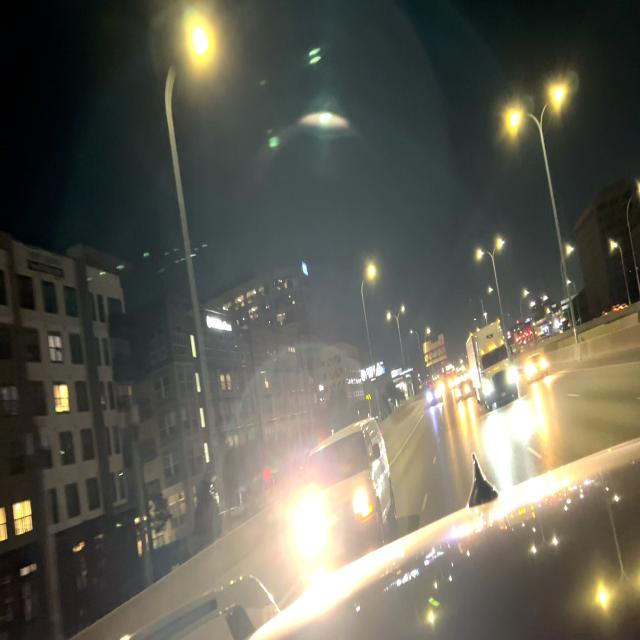back-of-sign: (423, 332, 448, 371)
